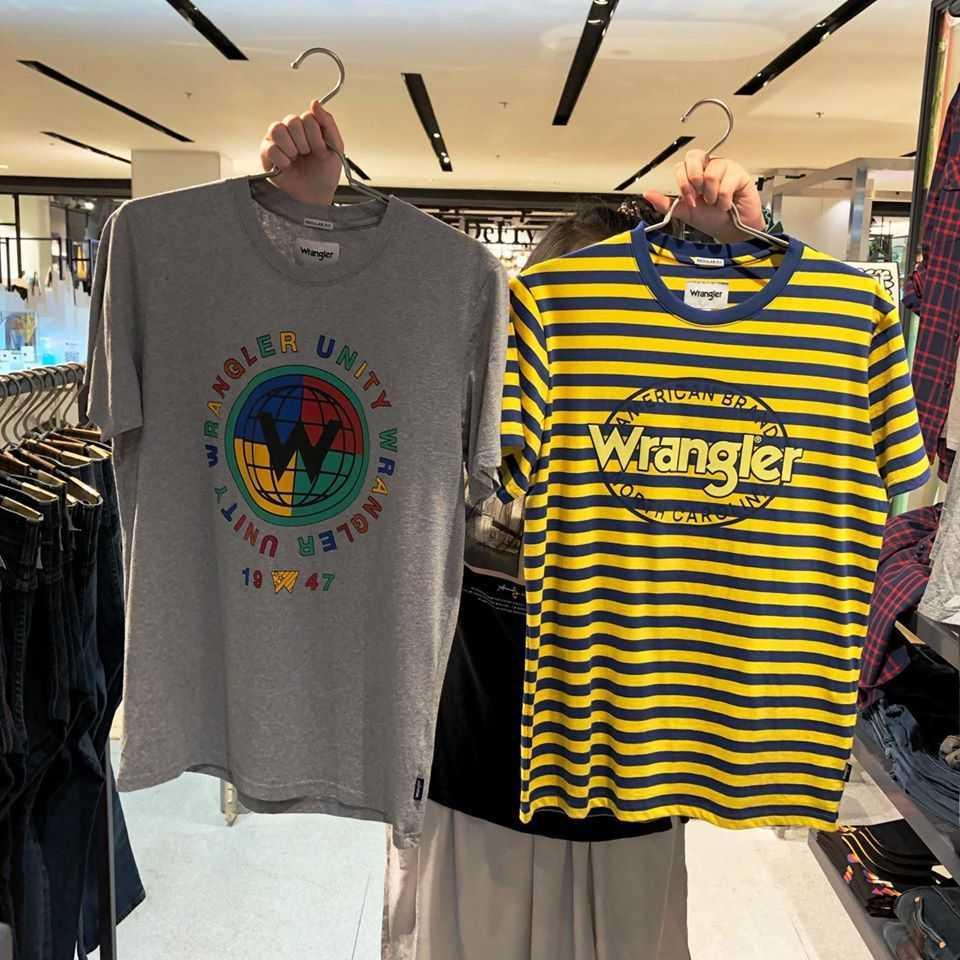Tshirt: (69, 180, 501, 833), (494, 217, 933, 832)
